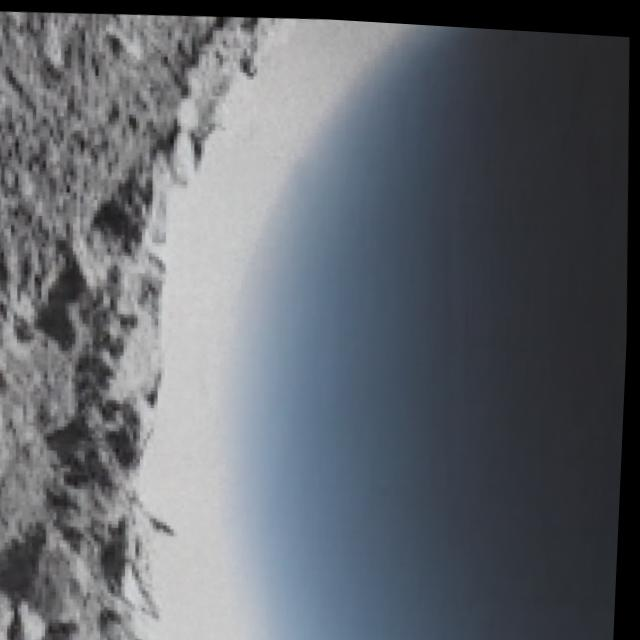Crater: (60, 4, 640, 640)
